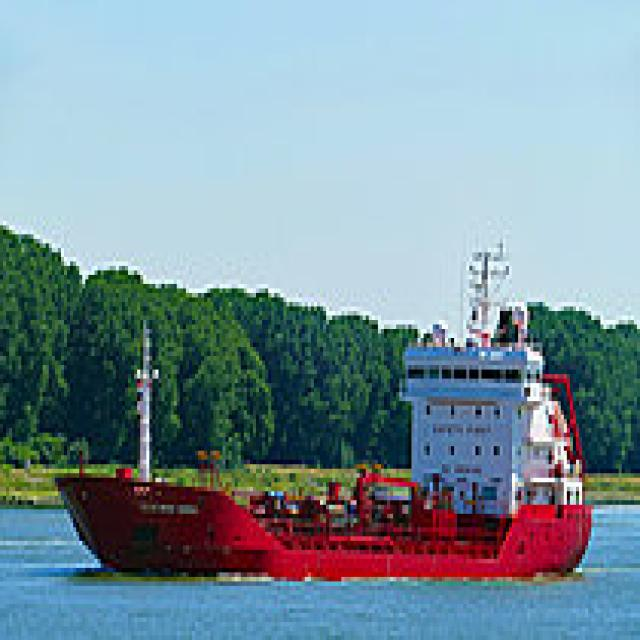Tanker: (43, 225, 594, 577)
